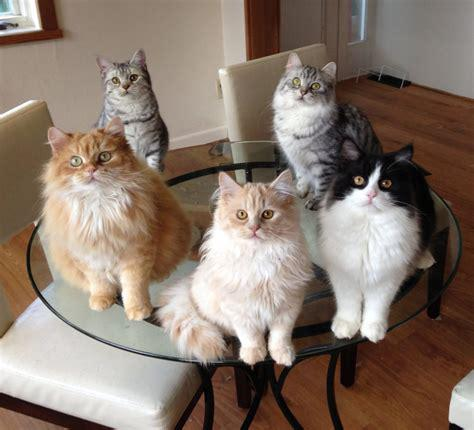cat: (47, 119, 192, 321), (160, 170, 310, 363), (321, 138, 433, 340), (275, 53, 384, 196), (96, 50, 167, 170)
